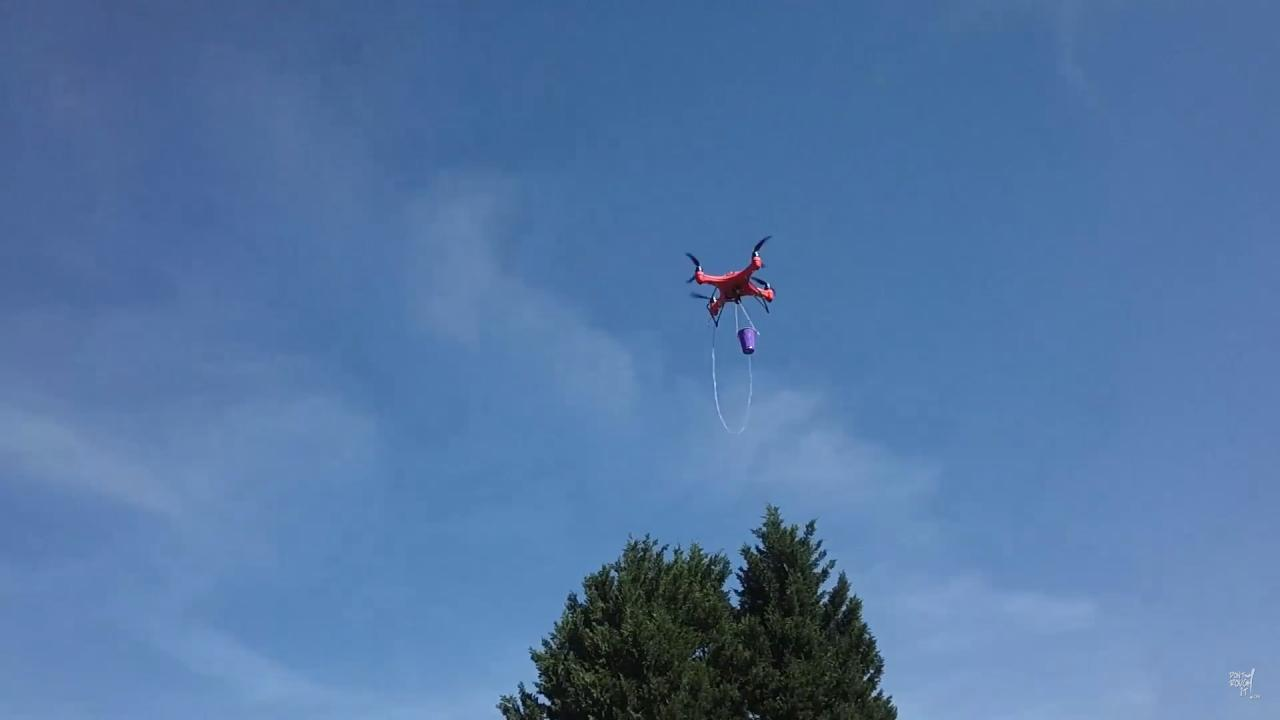Drone: (676, 226, 787, 340)
